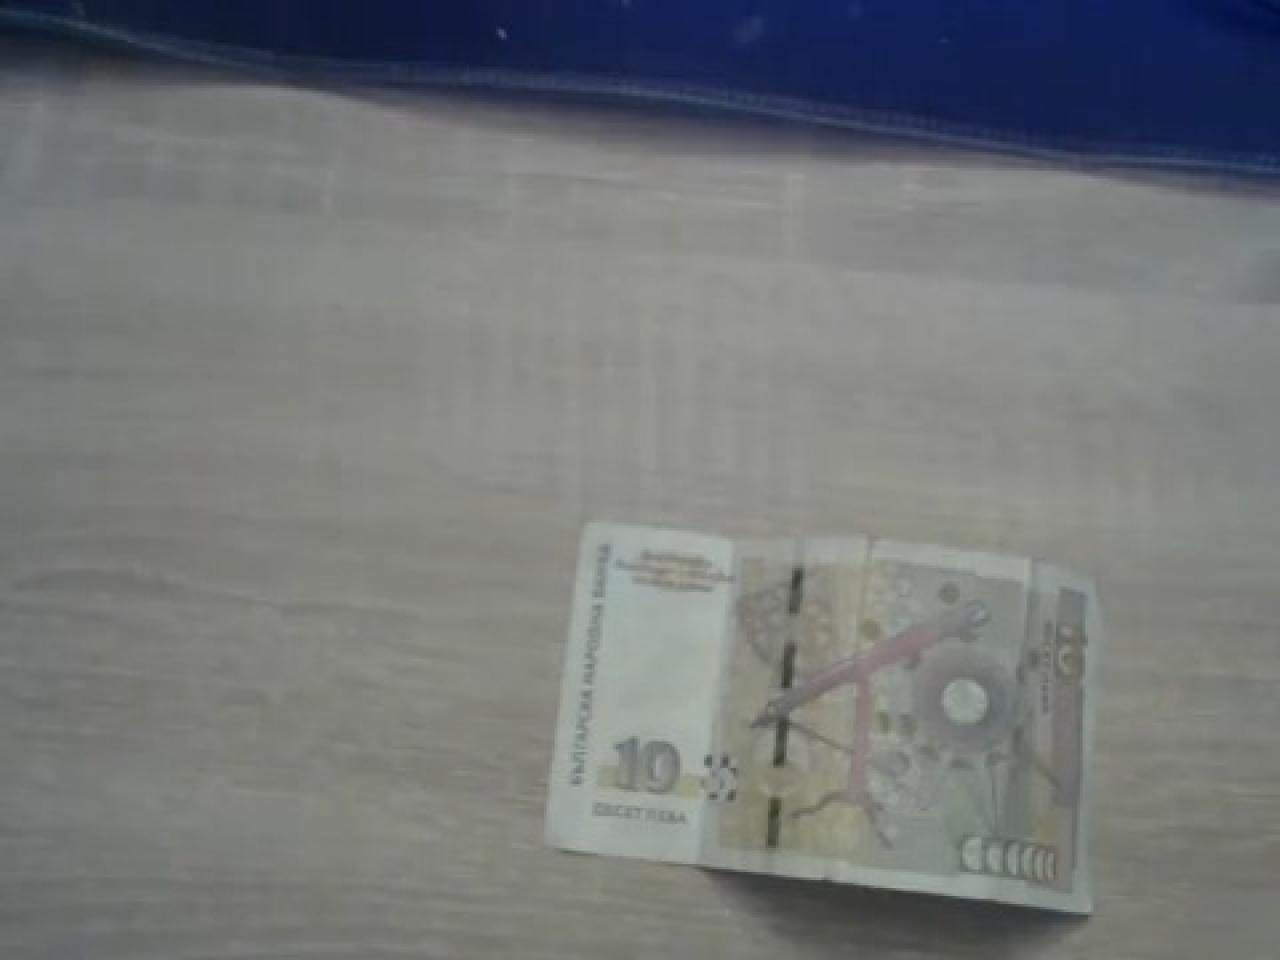10leva: (544, 522, 1104, 920)
